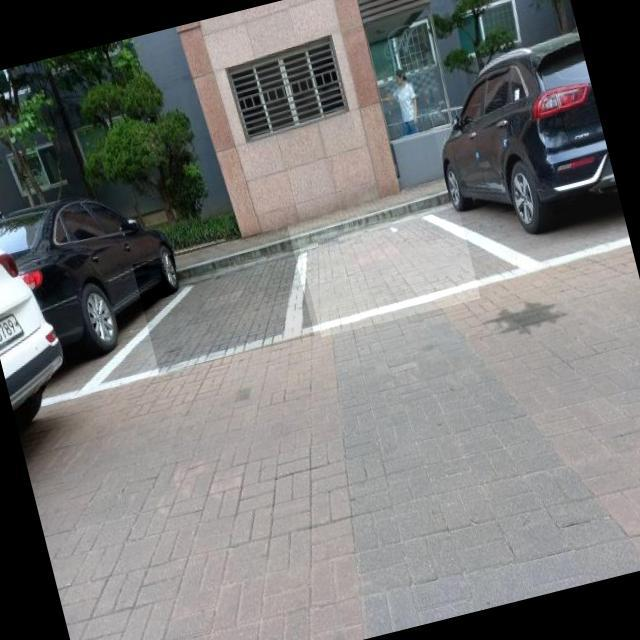empty: (132, 225, 315, 373), (298, 200, 480, 337)
occupied: (419, 33, 625, 259)
